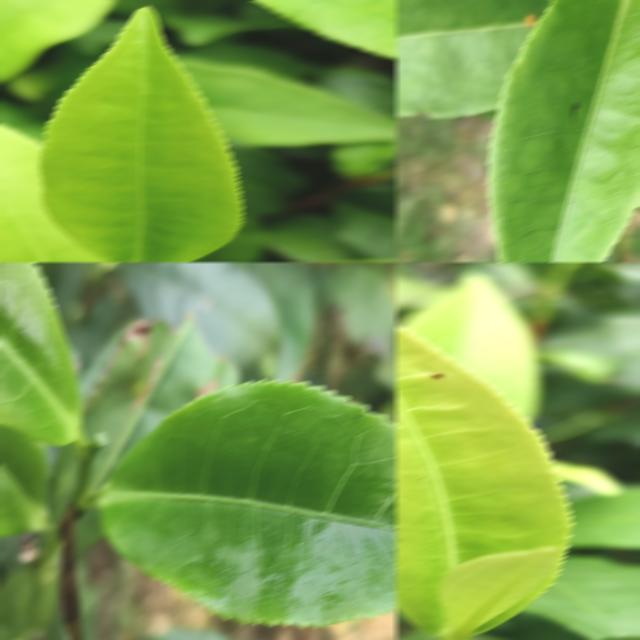Leaf: (96, 380, 397, 625), (395, 324, 571, 636), (39, 7, 242, 262), (487, 0, 640, 262), (401, 271, 543, 419), (180, 56, 397, 146), (395, 0, 552, 117), (124, 262, 279, 365), (0, 262, 85, 445), (0, 123, 109, 262), (522, 554, 640, 640), (0, 0, 117, 81), (251, 0, 397, 59), (543, 312, 640, 391), (326, 262, 396, 353), (0, 425, 49, 535), (568, 484, 640, 549)
